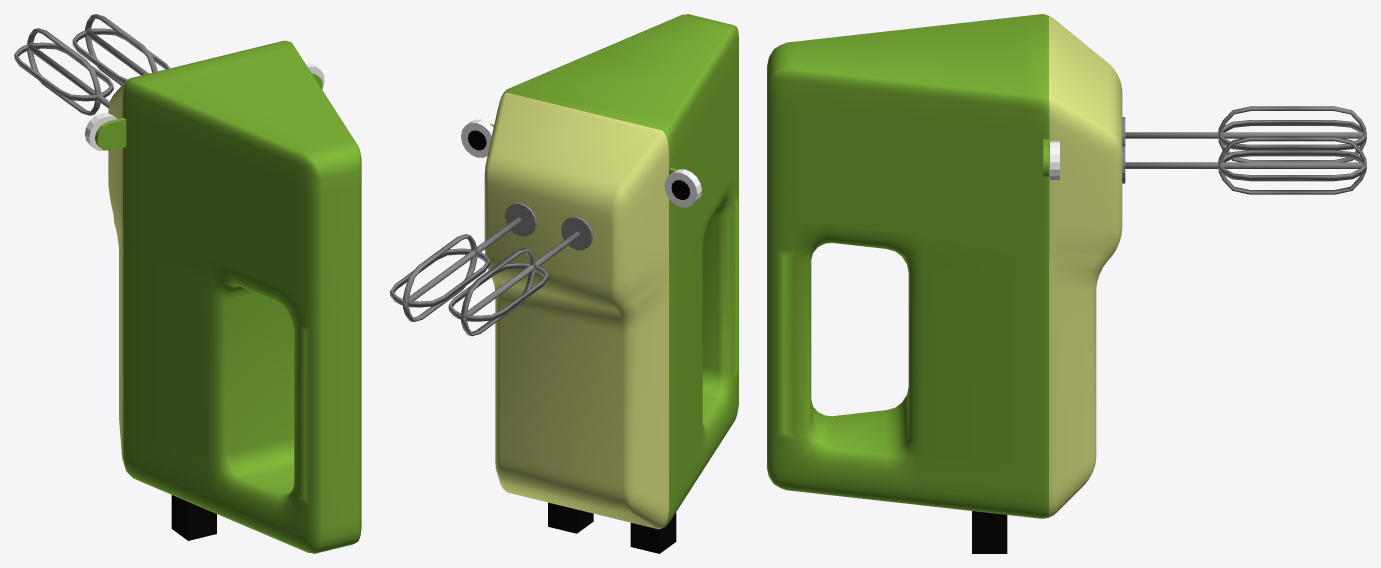
Rendered from mixer.glb.
3 renders of one model, left to right at view 1: azimuth 30°, elevation 25°; view 2: azimuth 150°, elevation 25°; view 3: azimuth 270°, elevation 25°, orthographic. The views are drawn at different scales.
Visible parts, largest first — view 1: Cube.005; view 2: Cube.005; view 3: Cube.005.
Boxes of the visible parts, x1,y1,x2,y2 form: Cube.005: (14, 14, 361, 553); Cube.005: (390, 14, 738, 553); Cube.005: (767, 14, 1366, 553).
Bounding box in the file's own units: 2.46 × 4.42 × 5.11.
